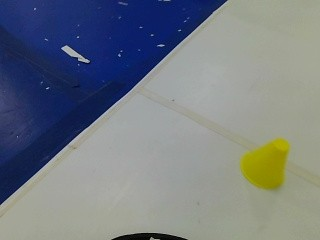cone: (238, 134, 289, 189)
